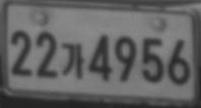2: (34, 31, 58, 77), (10, 29, 32, 76)
4: (88, 34, 112, 82)
5: (141, 37, 164, 82)
6: (168, 38, 190, 85)
9: (114, 36, 136, 81)
가: (61, 41, 85, 79)
